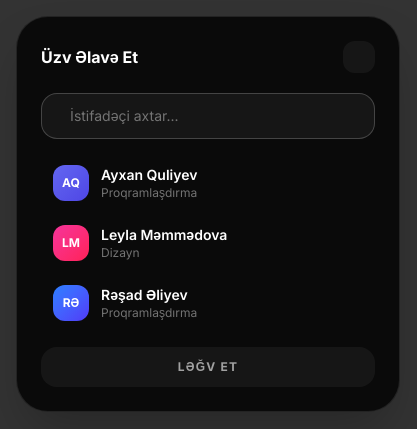
Scenario: AddMemberModal — unit testlər › axtarış sahəsinə mətn daxil etdikdə nəticələr filtrlənir
This screenshot has width=417, height=429.
Type "Leyla" into the field with placeholder "İstifadəçi axtar..." at (214, 116), box [70,106,358,126]
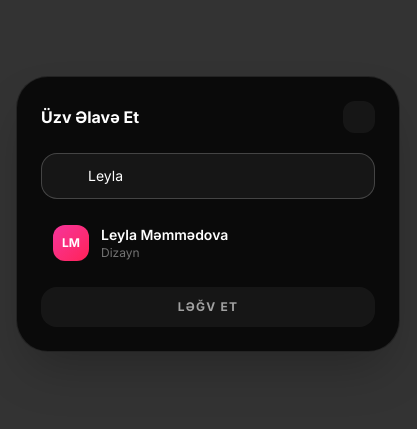
Check: the text "Leyla Məmmədova" is shown, box [101,226,228,243]
Check: the button "Ayxan Quliyev" is gone
